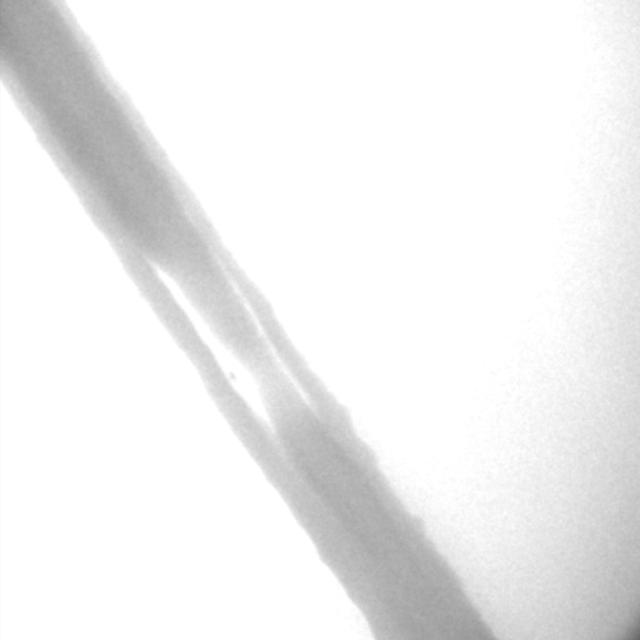unfused: (148, 255, 317, 481)
